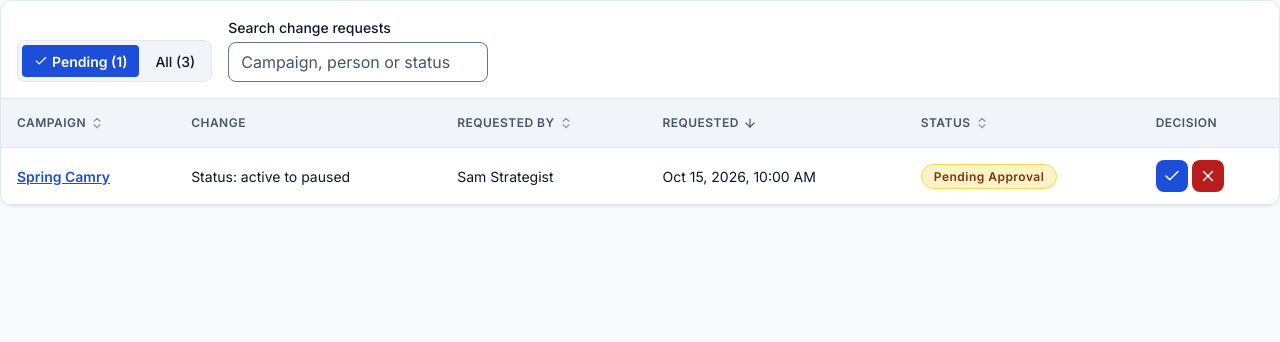
ApprovalsTable › shows what changes, from and to, with formatted values
Expected: the row that starts with "Spring Camry" shows "Status: active to paused", [191,168,350,184]
Click the radio button labelled "All (3)" at (175, 61), box [143,45,207,77]
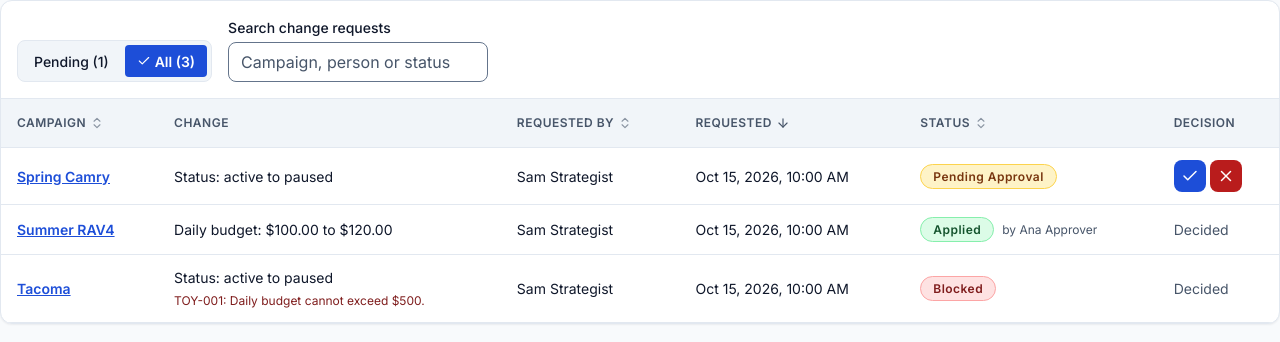
Expected: the text "Daily budget: $100.00 to $120.00" is shown, [174,221,392,238]
